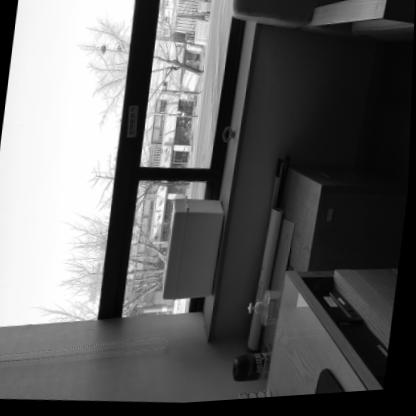DDL: (162, 198, 227, 305)
